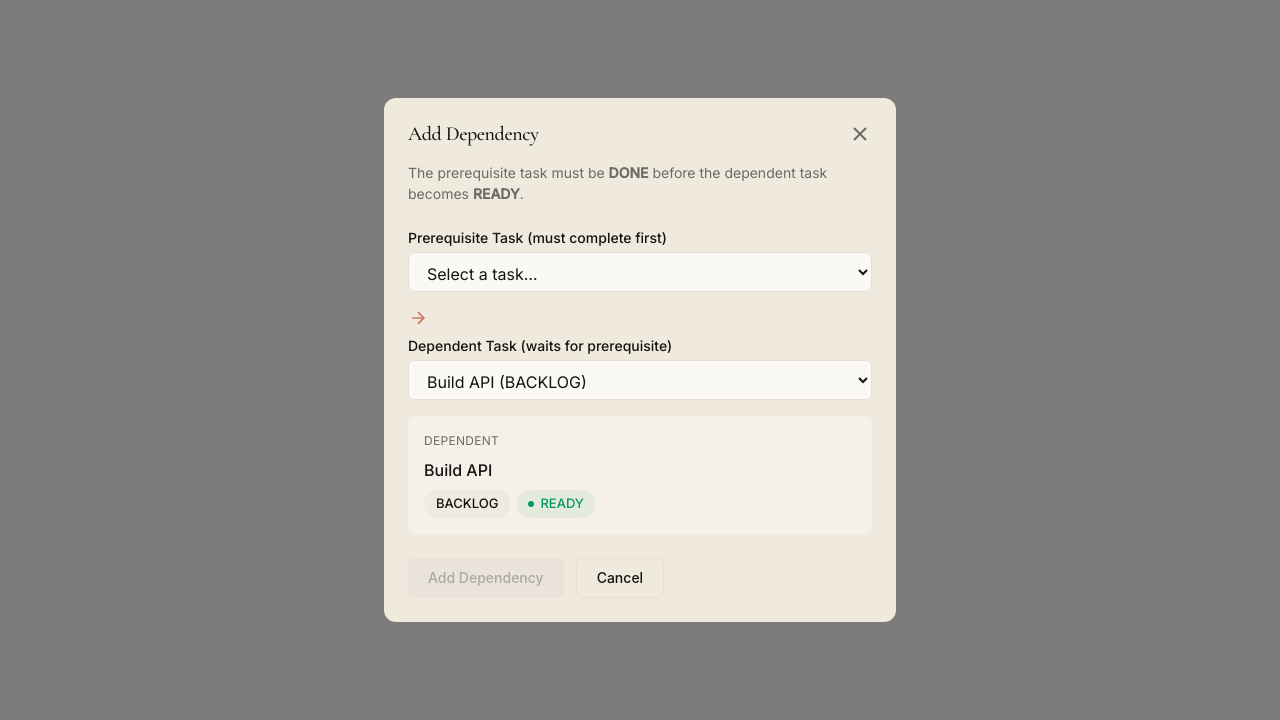
Test: AddDependencyModal › pre-fills the dependent when the caller knows it
This screenshot has width=1280, height=720.
Expected: the dropdown below "Dependent Task (waits for prerequisite)" shows "Build API (BACKLOG)", [408,360,872,400]
Expected: the button "Add Dependency" is disabled, [408,558,564,598]
Select "Design schema (BACKLOG)" in the dropdown below "Prerequisite Task (must complete first)" at (640, 272), box [408,252,872,292]
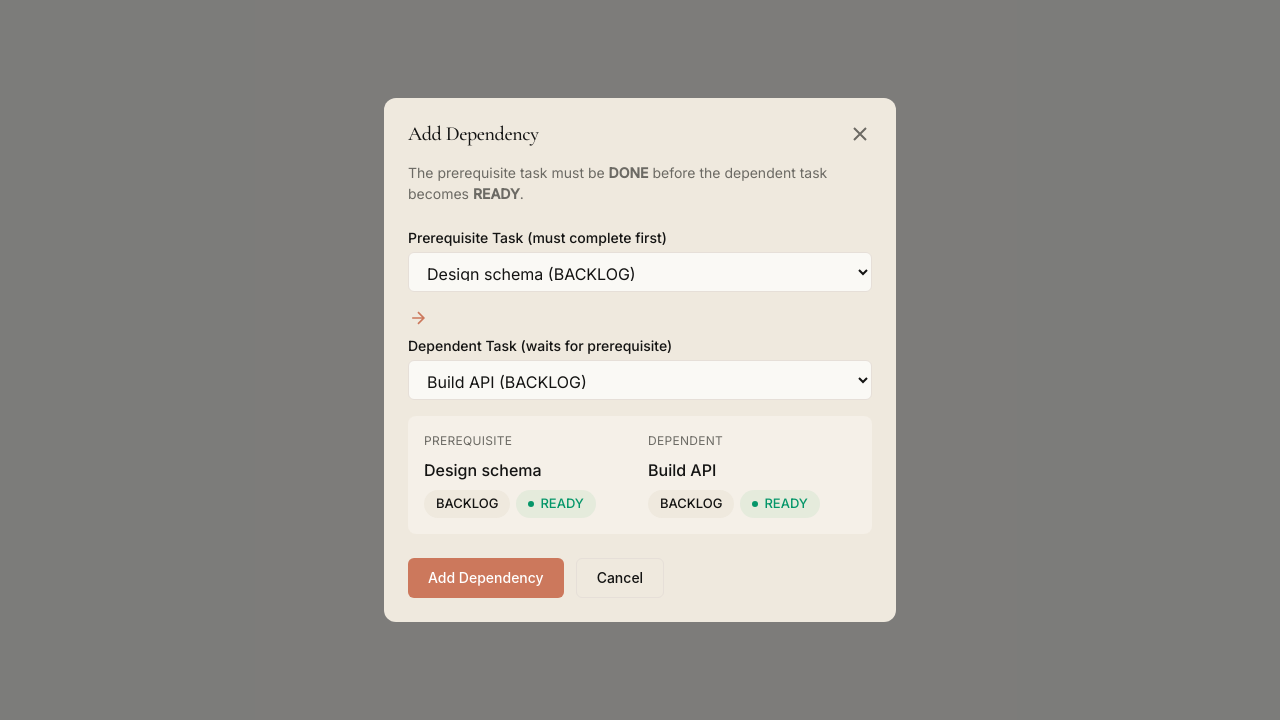
Expected: the button "Add Dependency" is enabled, [408,558,564,598]
